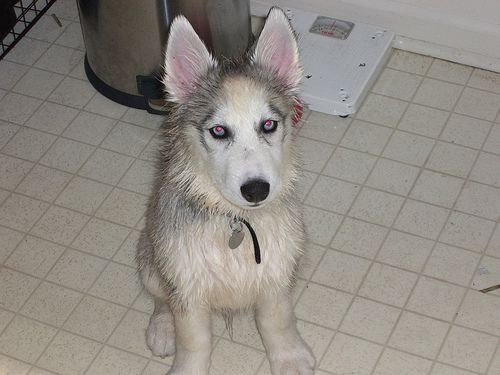dog: (137, 6, 320, 373)
